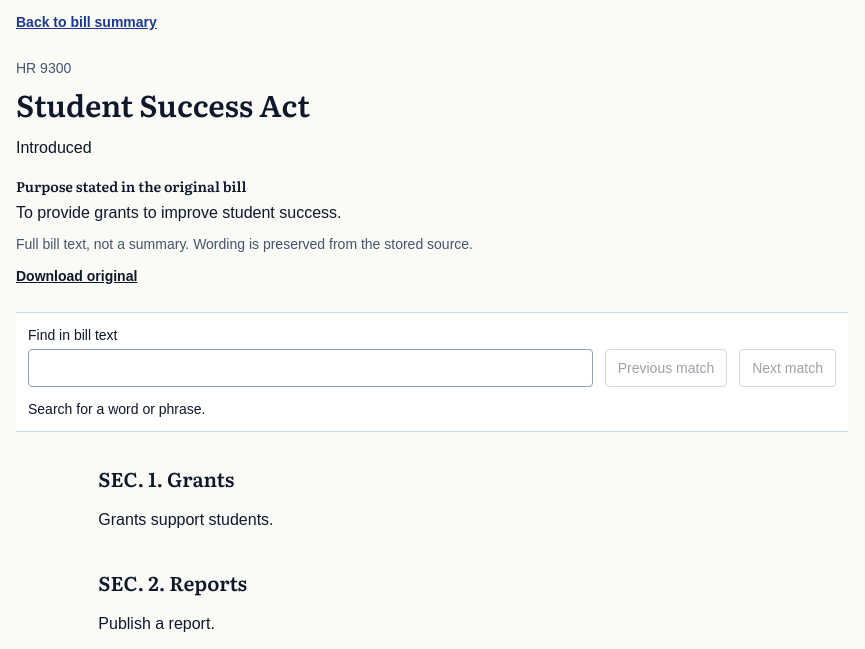
Test: finds literal text and reports no matches
The width and height of the screenshot is (865, 649).
Expected: the text "Grants support students." is shown, [98, 510, 274, 528]
Type "grants" into the search field at [310, 368], box [28, 348, 593, 386]
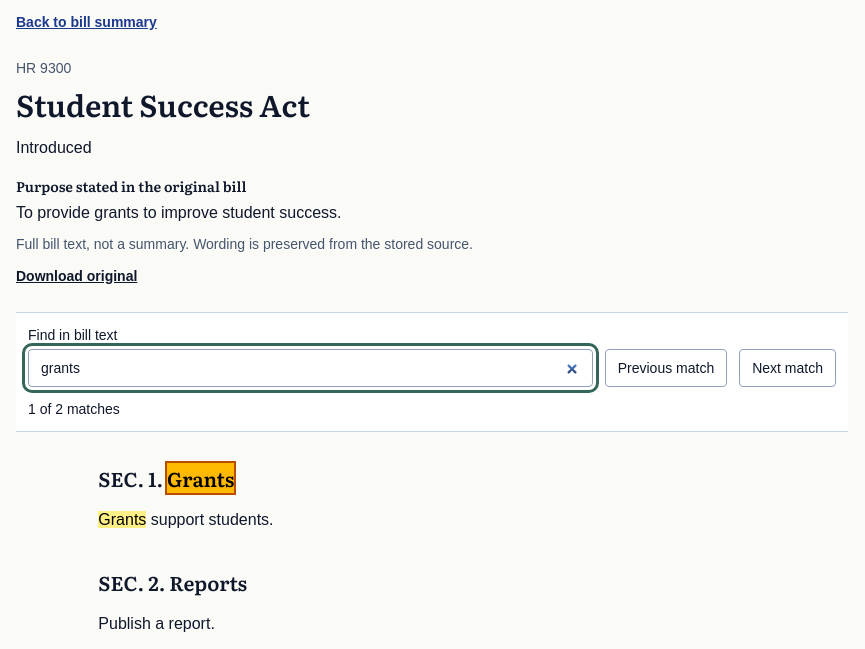
Expected: the message reads "1 of 2 matches", [28, 400, 120, 416]
Click the button "Next match" at [788, 368], box [739, 348, 836, 386]
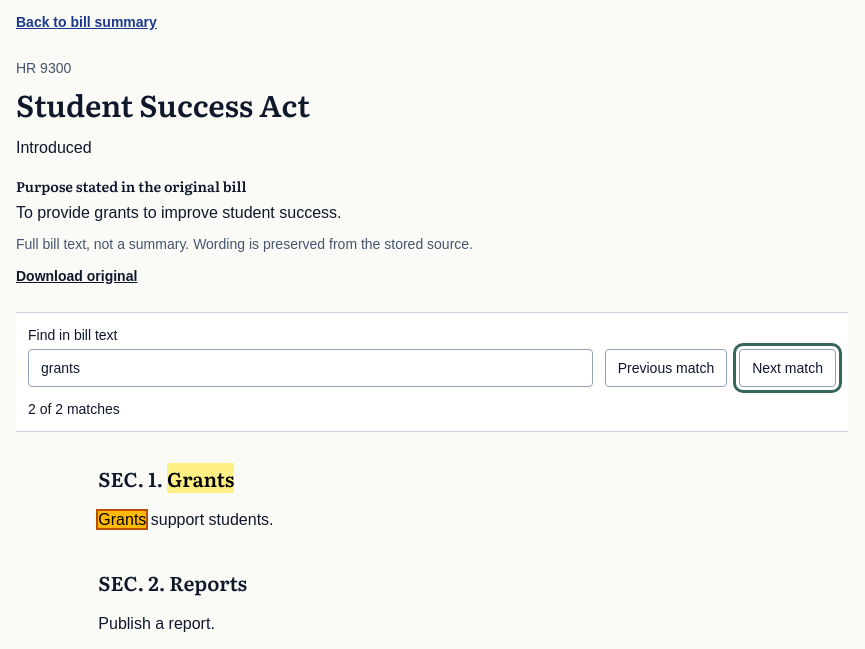
Expected: the message reads "2 of 2 matches", [28, 400, 120, 416]
Replace the text in the search field with "[ [missing]" at [310, 368], box [28, 348, 593, 386]
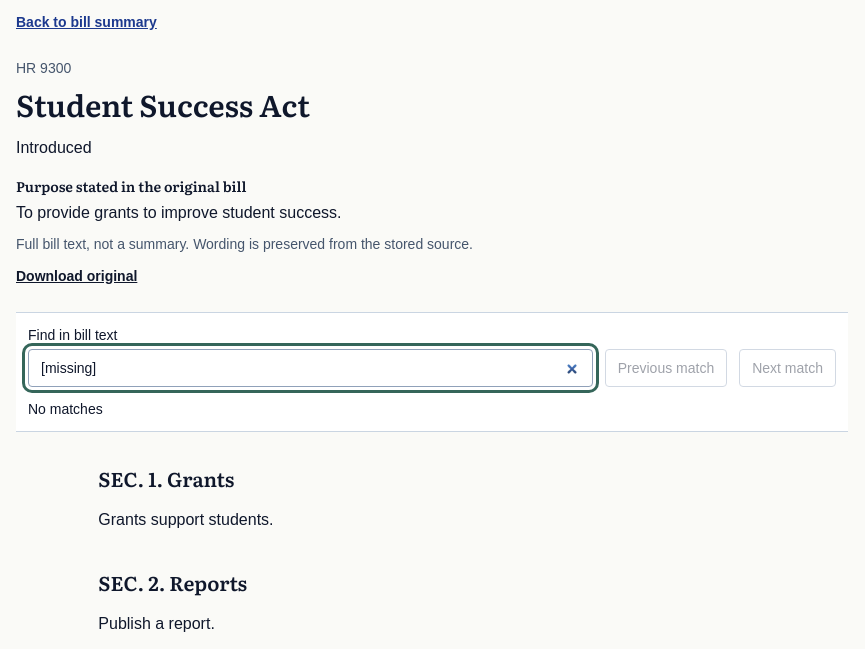
Expected: the message reads "No matches", [28, 400, 103, 416]
